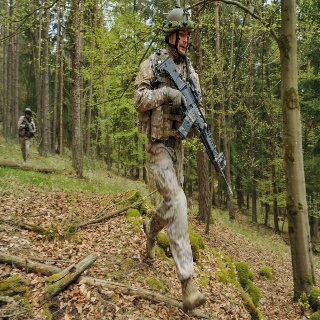rifle: (156, 55, 235, 196)
